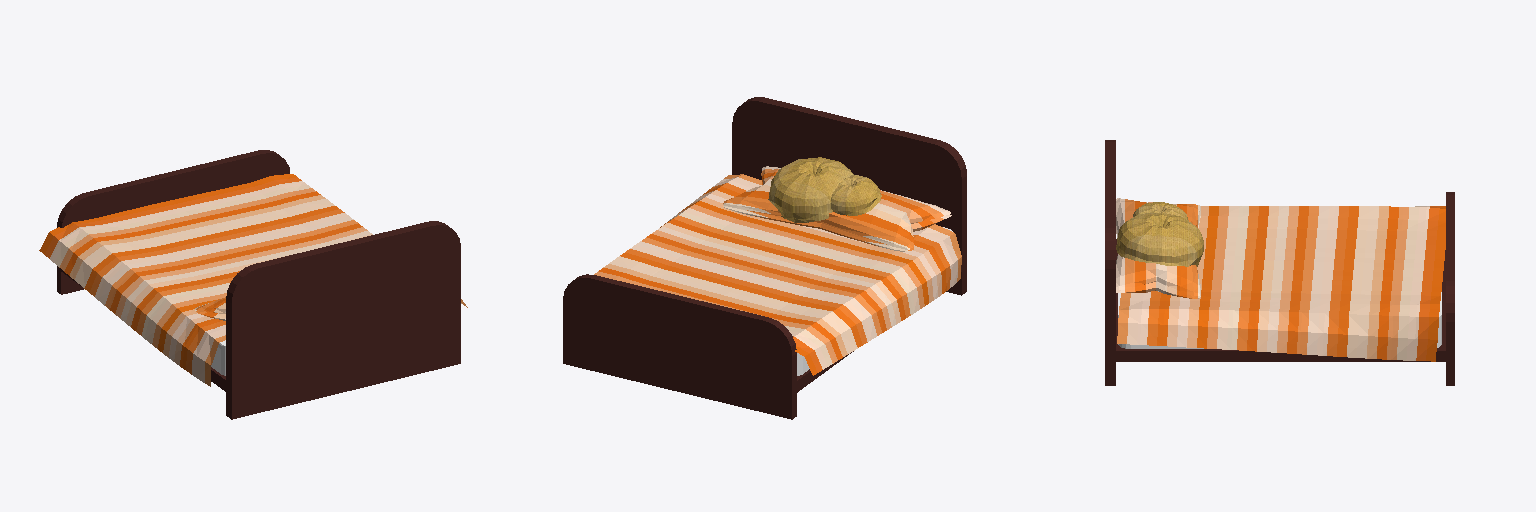
3 views of the same model, side by side, from view 1: azimuth 30°, elevation 25°; view 2: azimuth 150°, elevation 25°; view 3: azimuth 270°, elevation 25° (orthographic).
Parts seen in each view (by area): view 1: Cama:pasted__polySurface300, Cama:pasted__polySurface297; view 2: Cama:pasted__polySurface300, Cama:pasted__polySurface297, Cama:pasted__polySurface295, Cama:pasted__polySurface299, Cama:pasted__polySurface296; view 3: Cama:pasted__polySurface297, Cama:pasted__polySurface300, Cama:pasted__polySurface299, Cama:pasted__polySurface295.
Part boxes in pixels (left/top/right/bottom): Cama:pasted__polySurface300: left=57, top=150, right=460, bottom=419; Cama:pasted__polySurface297: left=39, top=174, right=467, bottom=386; Cama:pasted__polySurface300: left=563, top=97, right=966, bottom=419; Cama:pasted__polySurface297: left=594, top=174, right=961, bottom=375; Cama:pasted__polySurface295: left=723, top=166, right=951, bottom=251; Cama:pasted__polySurface299: left=768, top=157, right=853, bottom=222; Cama:pasted__polySurface296: left=831, top=175, right=881, bottom=215; Cama:pasted__polySurface297: left=1117, top=206, right=1445, bottom=361; Cama:pasted__polySurface300: left=1105, top=140, right=1454, bottom=385; Cama:pasted__polySurface299: left=1116, top=212, right=1203, bottom=266; Cama:pasted__polySurface295: left=1116, top=198, right=1200, bottom=298.
Bounding box in the file's own units: 2.03 × 1.07 × 2.35.
4 materials, 4 textured.